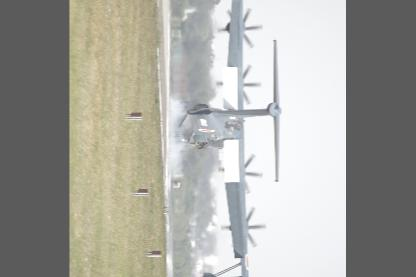Tu95: (173, 0, 285, 276)
